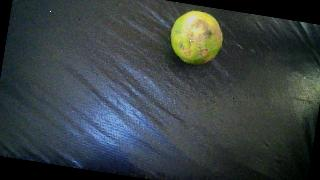DESECHO: (167, 7, 227, 68)
